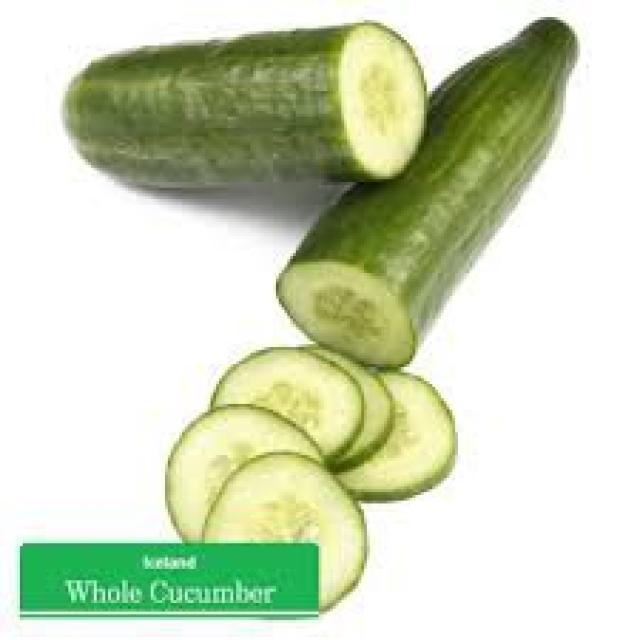cucumber: (274, 20, 579, 372), (59, 20, 430, 193)
